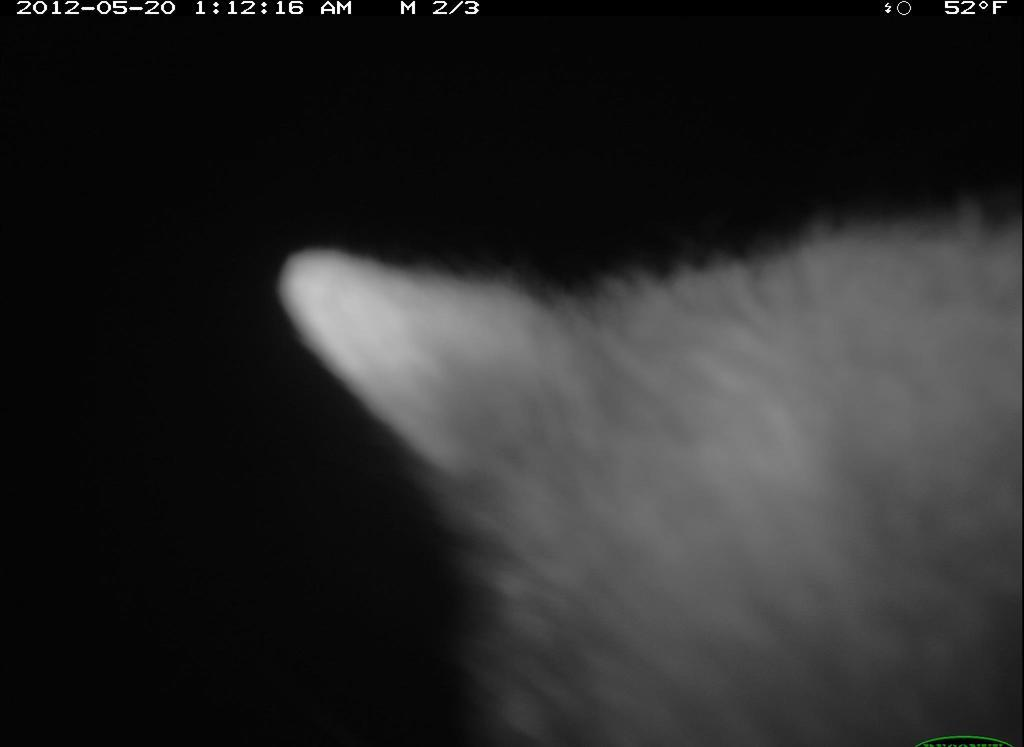raccoon: (257, 197, 1024, 747)
